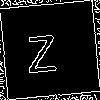Z: (24, 25, 58, 74)
